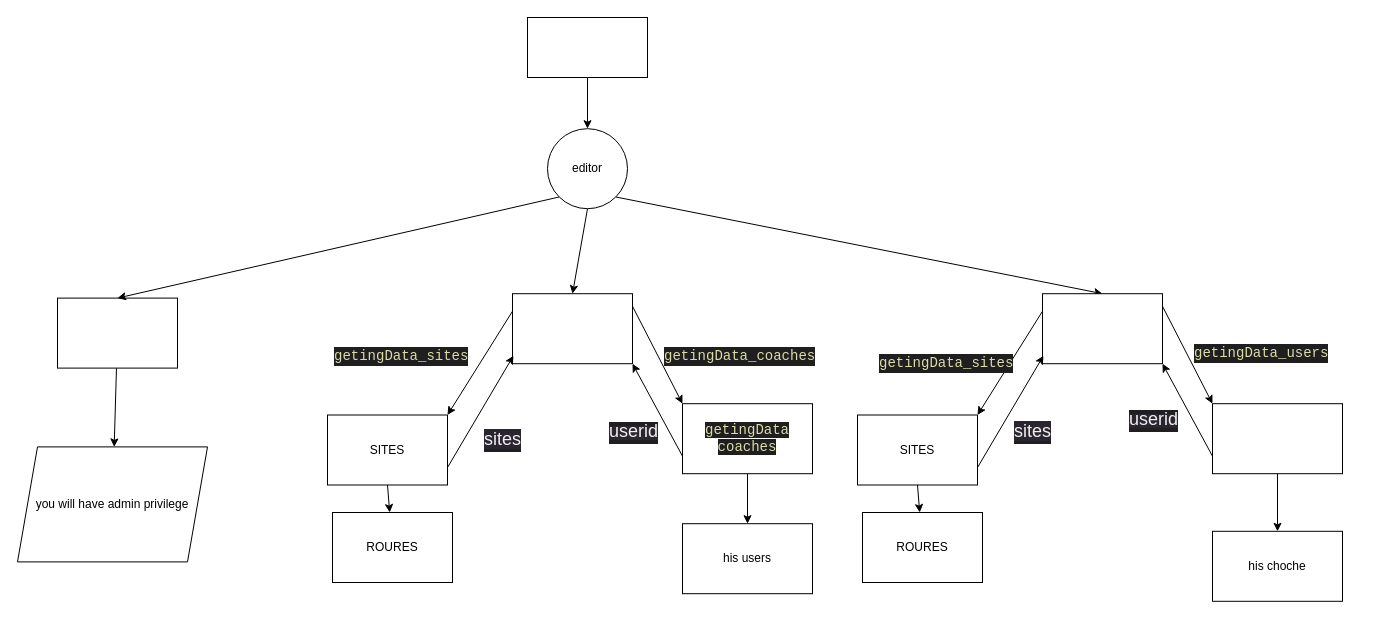
Some shapes in this 1380 by 619 pixel diagram are drawn without their labels. Here are the shapes that lost their labels. From the top down, the box of each, then its label:
(526, 16, 648, 78): Admin added in databace
(56, 297, 178, 368): editor-role-admin
(512, 293, 632, 364): editor-role-choche
(1042, 293, 1162, 364): editor-role-user
(1212, 403, 1342, 474): getingData users
